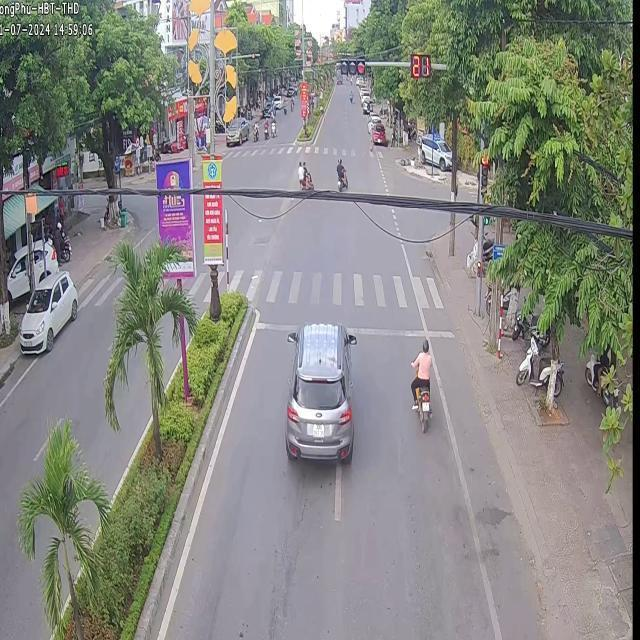car: (283, 320, 354, 459), (18, 269, 77, 351)
motobike: (409, 338, 430, 428)
red_light: (411, 54, 431, 78), (340, 60, 364, 77), (481, 153, 489, 188)
stop_line: (346, 325, 423, 336), (256, 320, 294, 330), (426, 327, 450, 336)
